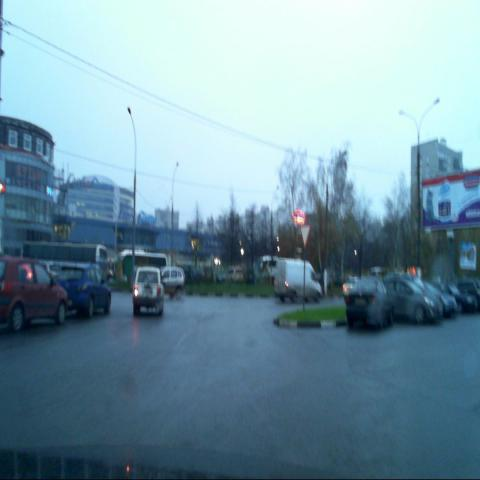2_4: (300, 224, 310, 247)
